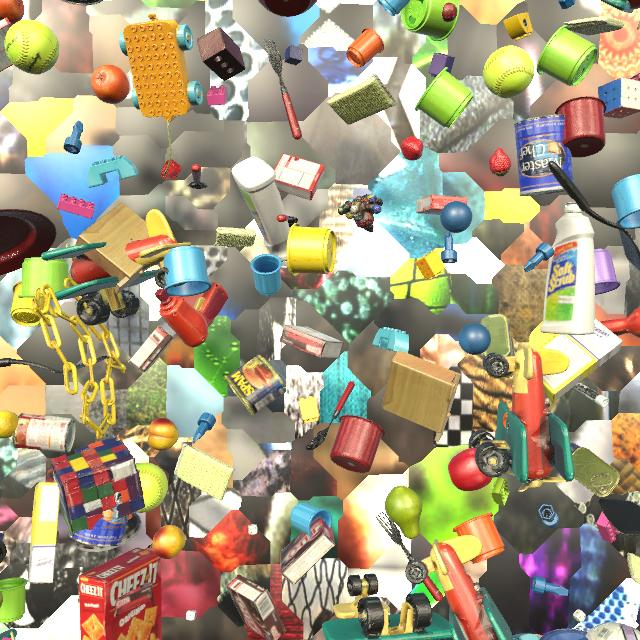ycb_002_master_chef_can: (69, 462, 140, 547), (514, 114, 573, 196), (62, 0, 103, 5)
ycb_003_cracker_box: (79, 547, 162, 640)
ycb_004_sugar_box: (540, 319, 623, 403), (27, 482, 60, 584)
ycb_005_tomato_soup_can: (12, 413, 76, 453)
ycb_008_pudding_box: (226, 574, 286, 640), (280, 516, 335, 585), (77, 582, 153, 617), (128, 322, 177, 372), (279, 325, 344, 359)
ycb_009_gelatin_box: (274, 153, 325, 201), (416, 195, 468, 215), (0, 18, 13, 72)
ycb_010_potted_meat_can: (224, 355, 286, 417), (570, 441, 620, 497), (480, 314, 515, 379)
ycb_012_strawberry: (489, 148, 511, 177), (401, 136, 424, 160)
ycb_013_apple: (448, 448, 492, 491)
ycb_014_lemon: (0, 411, 19, 439)
ycb_015_peach: (152, 525, 186, 559), (148, 418, 179, 451)
ycb_016_pear: (385, 485, 422, 539), (0, 591, 3, 607)
ycb_017_orange: (91, 65, 129, 104), (0, 0, 24, 25)
